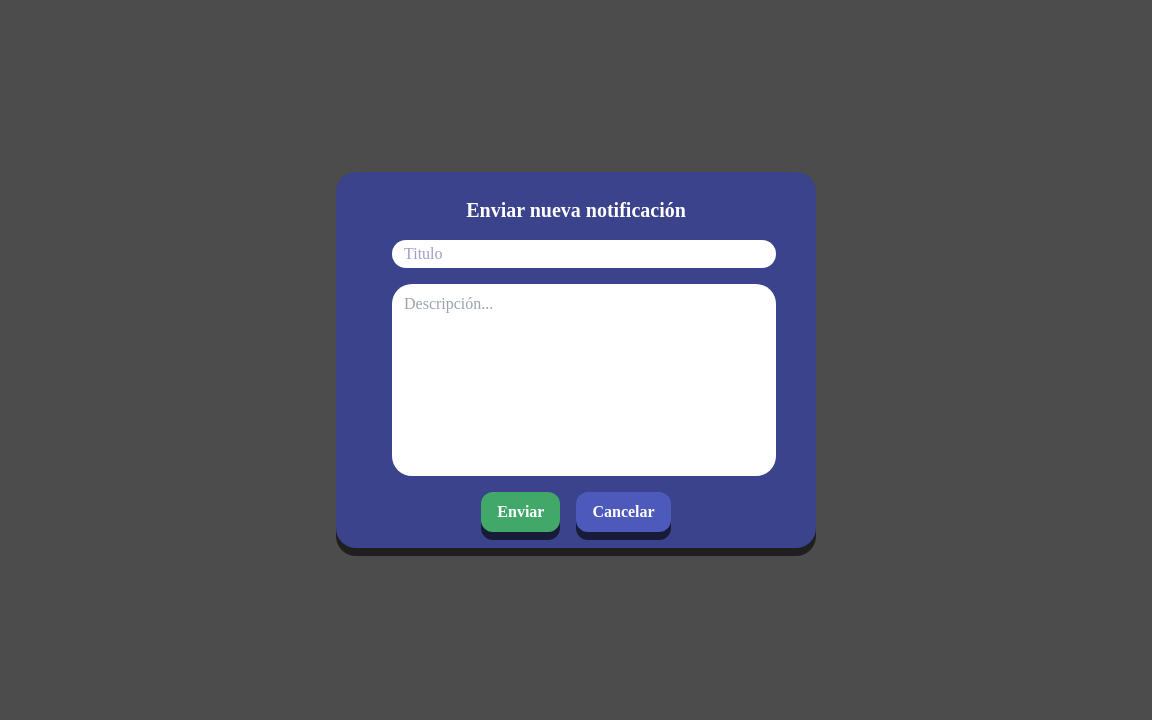
Show a warning when the admin does not enter a notification title
Click the button "Enviar": (521, 512) x1=481 y1=492 x2=560 y2=532
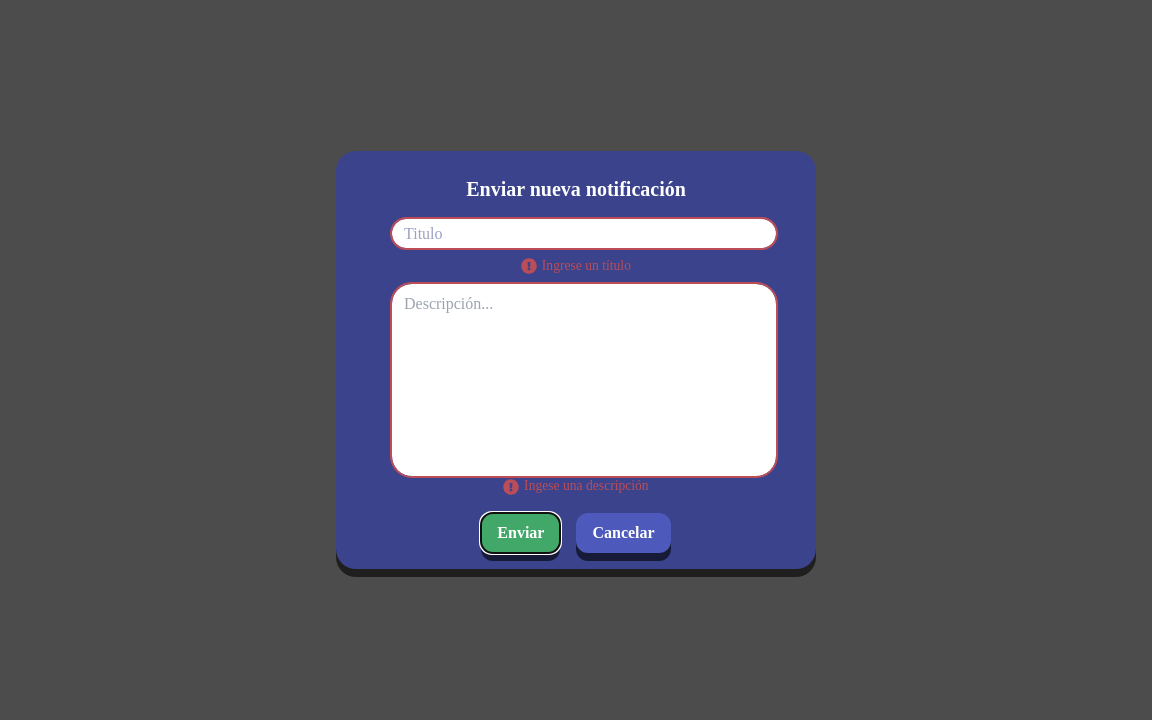
Expected: the text "Ingrese un título" is shown, x1=542 y1=256 x2=631 y2=276
